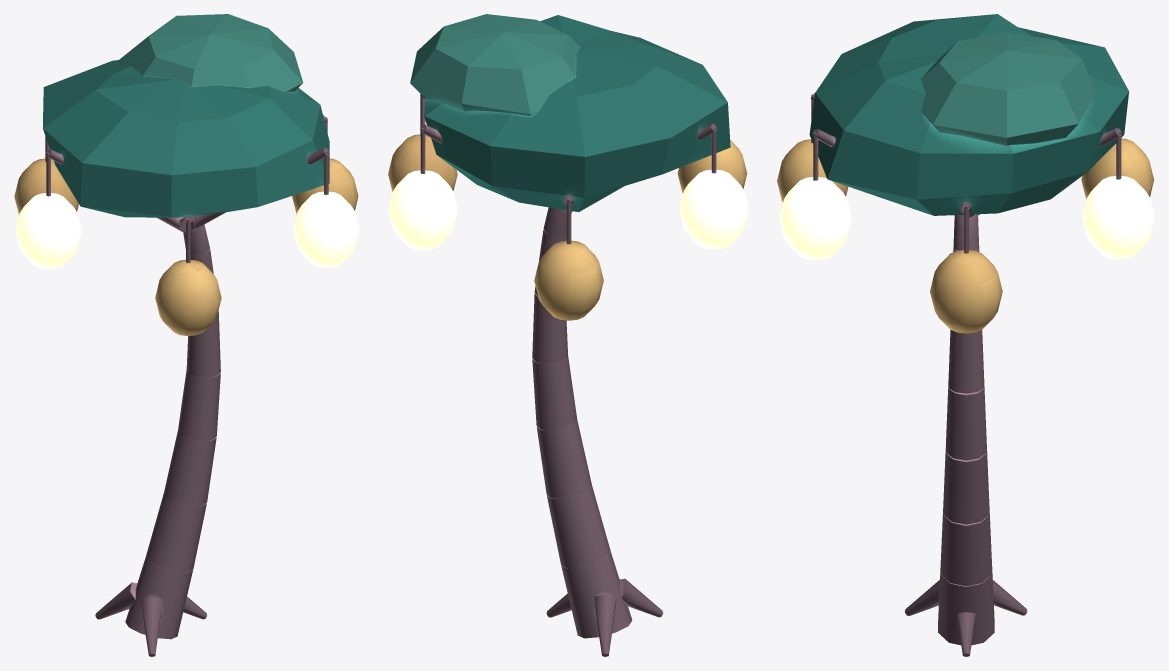
The model's file is tree_lantern_painted.glb.
3 views of the same model, side by side, from view 1: azimuth 30°, elevation 25°; view 2: azimuth 150°, elevation 25°; view 3: azimuth 270°, elevation 25° (orthographic). The views are drawn at different scales.
Parts seen in each view (by area): view 1: TreeLantern; view 2: TreeLantern; view 3: TreeLantern.
Boxes of the visible parts, left/top/right/bottom form: TreeLantern: left=14, top=14, right=359, bottom=656; TreeLantern: left=388, top=14, right=748, bottom=656; TreeLantern: left=777, top=14, right=1154, bottom=656.
Bounding box in the file's own units: 3.14 × 5.11 × 2.8.
5 materials, 4 textured.
